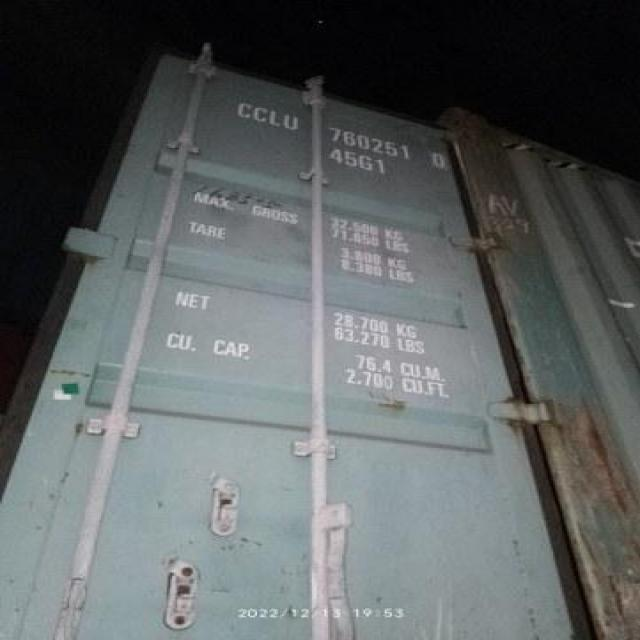ISO: (326, 144, 396, 178)
container_number: (228, 96, 456, 174)
